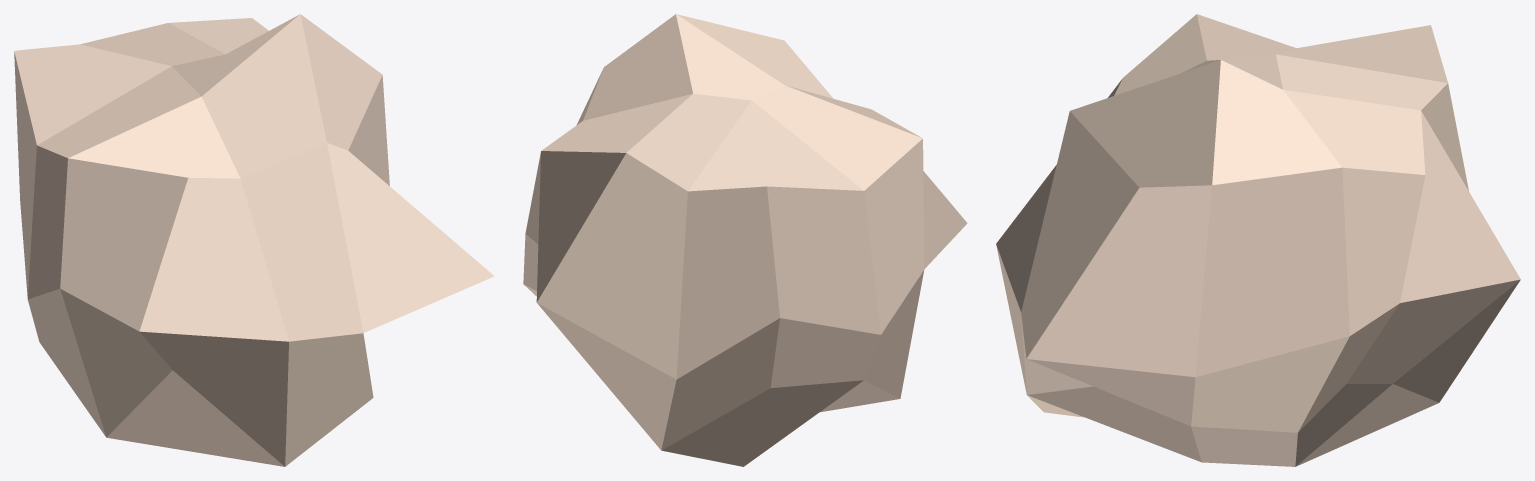
Rendered from lump-paper3.fbx.
3 views of the same model, side by side, from view 1: azimuth 30°, elevation 25°; view 2: azimuth 150°, elevation 25°; view 3: azimuth 270°, elevation 25° (orthographic). The views are drawn at different scales.
Visible parts, largest first — view 1: Cube; view 2: Cube; view 3: Cube.
Boxes of the visible parts, x1,y1,x2,y2 form: Cube: (14,14,494,466); Cube: (523,14,967,466); Cube: (996,14,1520,466).
Bounding box in the file's own units: 23.59 × 25.07 × 26.55.
